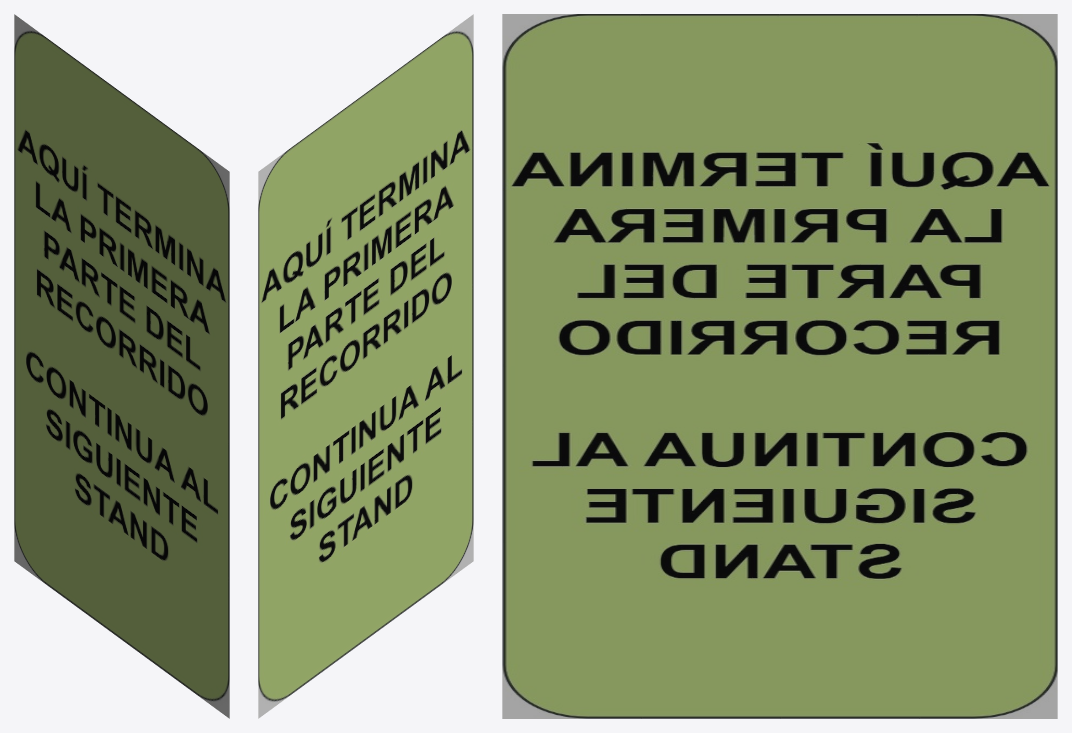
File: Cartel7.obj
The picture shows the model from 3 angles, left to right: view 1: azimuth 30°, elevation 25°; view 2: azimuth 150°, elevation 25°; view 3: azimuth 270°, elevation 25°; orthographic projection. The views are drawn at different scales.
Visible parts, largest first — view 1: Cartel7; view 2: Cartel7; view 3: Cartel7.
Boxes of the visible parts, box(x1,y1,x2,y2) form: Cartel7: box(14, 14, 229, 718); Cartel7: box(258, 14, 473, 718); Cartel7: box(502, 14, 1057, 718).
Bounding box in the file's own units: 0 × 2.8 × 2.
1 material, 1 textured.
